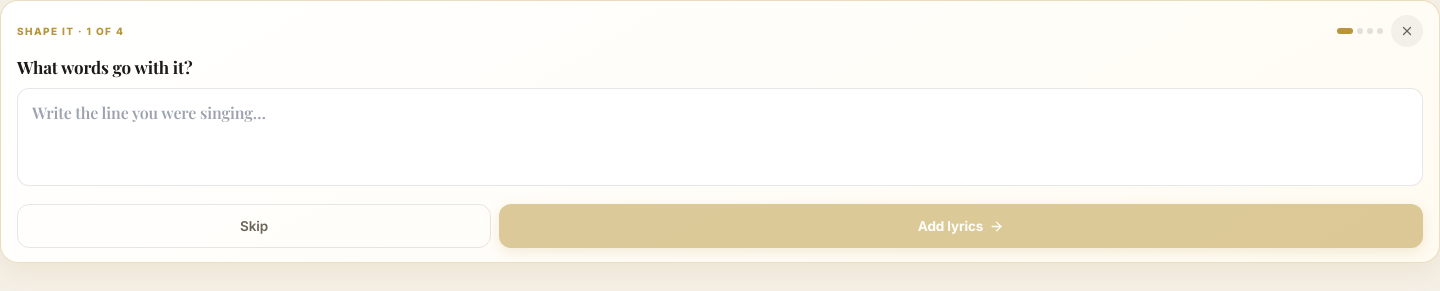
Test: GuidedShapeRail — the guided path from a fresh idea to its home › Back returns to the previous step
This screenshot has width=1440, height=291.
Click the button "Skip" at (254, 226), box [17,204,491,248]
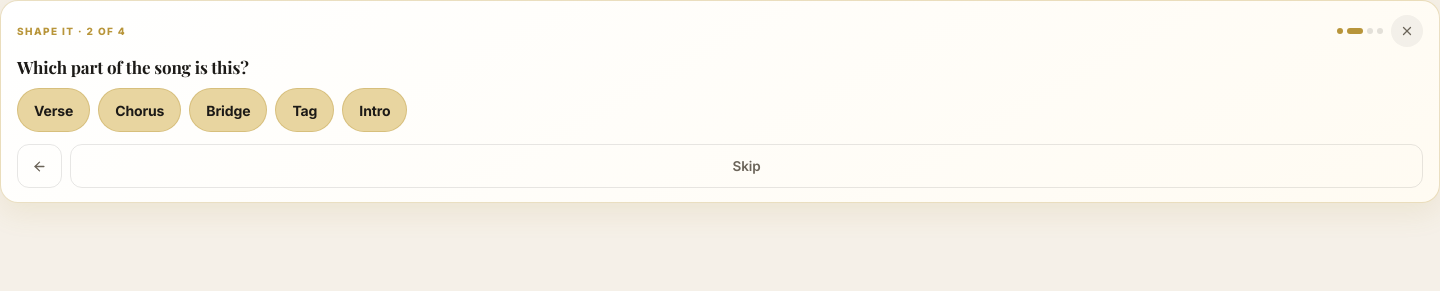
Expected: the text "Shape it · 2 of 4" is shown, [17,24,126,36]
Click the button named "back to the previous step" at (40, 166), box [17,144,62,188]
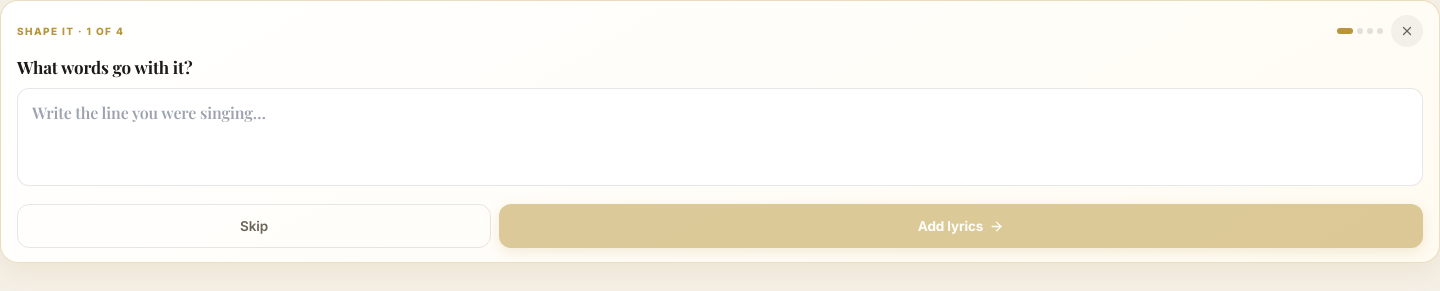
Expected: the text "Shape it · 1 of 4" is shown, [17,24,124,36]
